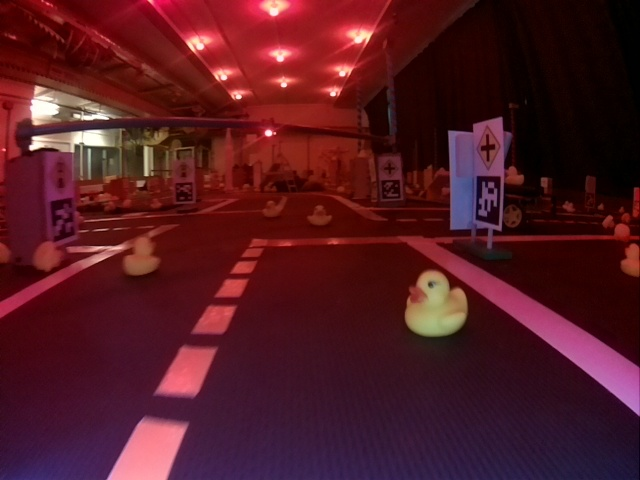Duckie: (405, 271, 467, 334), (125, 238, 158, 276), (33, 241, 62, 269), (620, 243, 639, 278), (308, 205, 332, 227), (506, 166, 524, 183), (262, 201, 281, 217)
Intersection sign: (478, 127, 500, 165), (382, 160, 399, 177)
QR code: (474, 175, 500, 224), (50, 198, 75, 240), (175, 182, 193, 201), (382, 180, 399, 198)
Signal sign: (47, 155, 74, 195), (175, 160, 192, 181)
